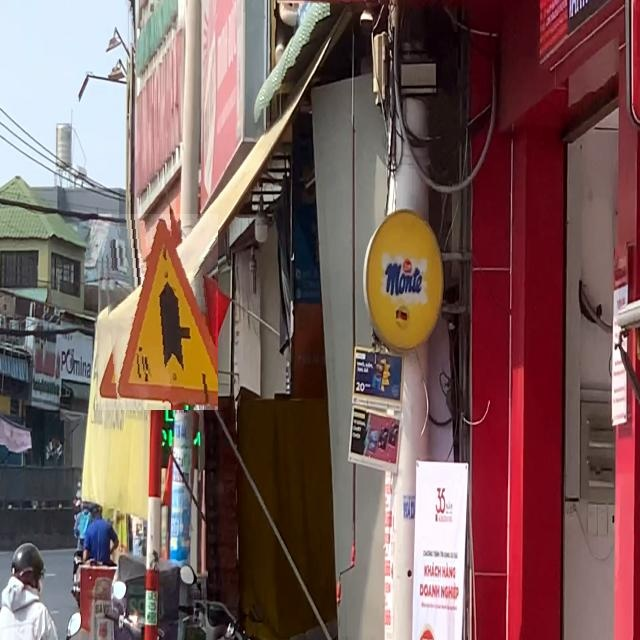bien_nguy_hiem: (98, 214, 218, 410)
